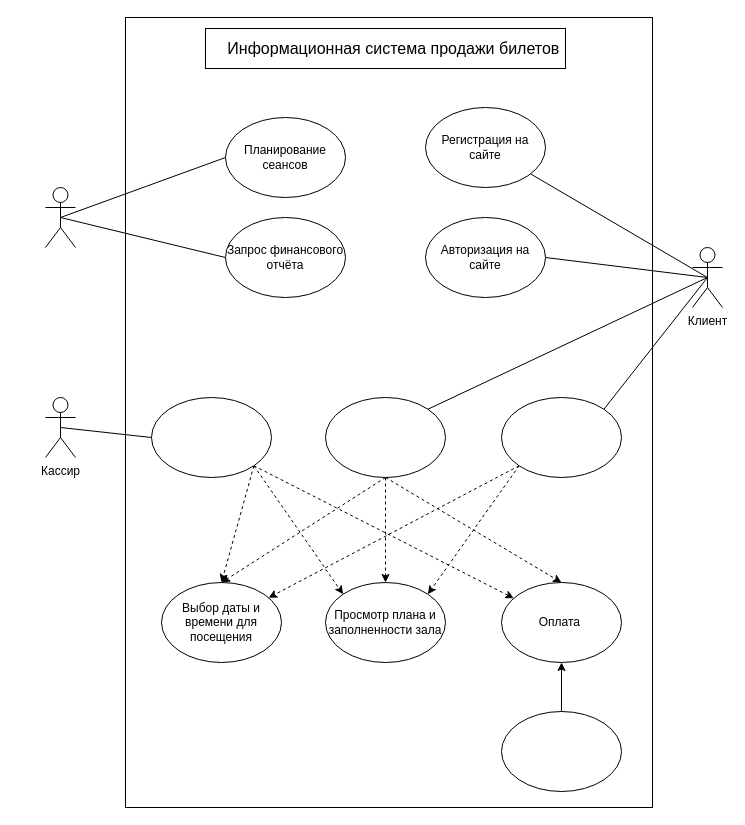
Image size: 745x825. Some labels were removed from this diagram. Each missing label, with the centre of its shape:
"Администратор" belongs at [60,217].
"Бронирование билета" belongs at [561,437].
"Оплата картой" belongs at [561,751].
"Покупка билета" belongs at [385,437].
"Продажа билетов за кассой" belongs at [211,437].
